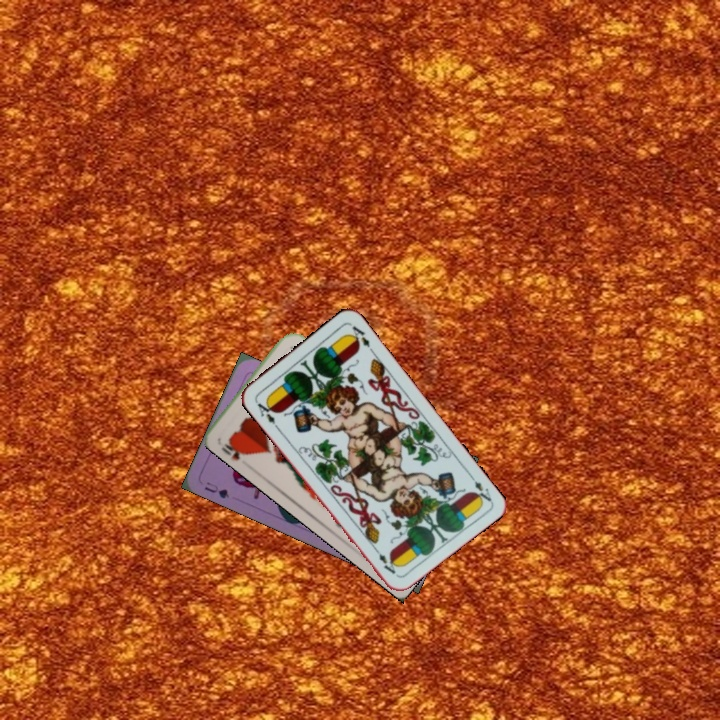EA: (464, 469, 494, 506), (251, 396, 281, 431)
GU: (200, 477, 232, 501)
HO: (217, 435, 251, 463)
